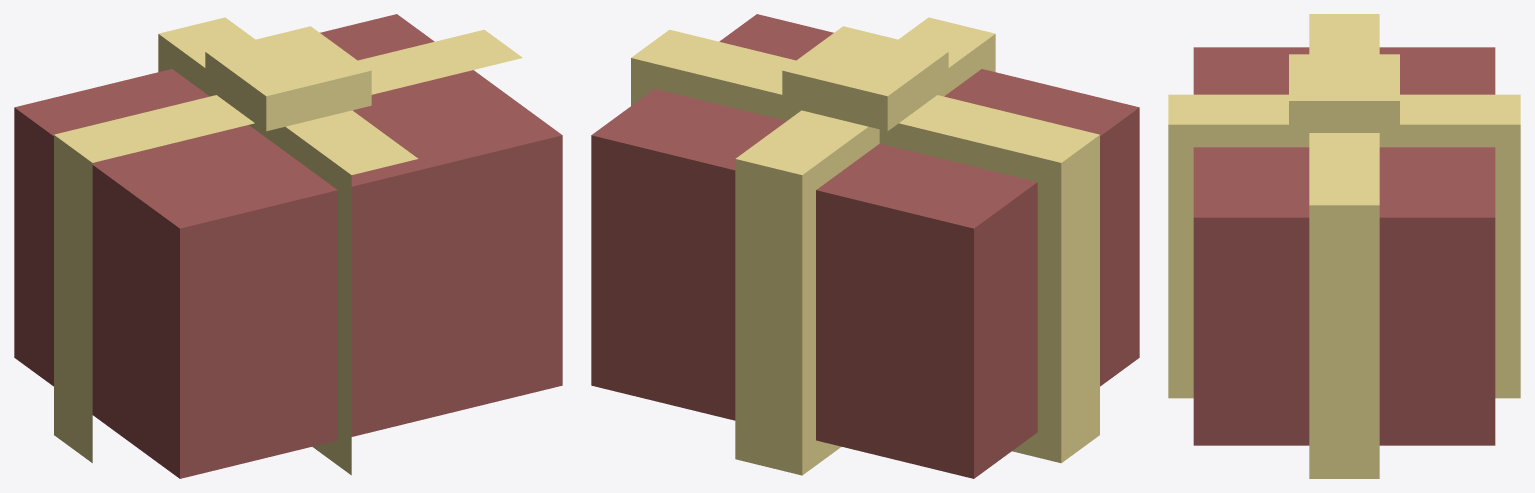
The model's file is parcel_red.glb.
The picture shows the model from 3 angles, left to right: view 1: azimuth 30°, elevation 25°; view 2: azimuth 150°, elevation 25°; view 3: azimuth 270°, elevation 25°; orthographic projection. The views are drawn at different scales.
Parts seen in each view (by area): view 1: Box, TwZ, TwX, Knot; view 2: Box, TwZ, TwX, Knot; view 3: Box, TwZ, TwX, Knot.
Boxes of the visible parts, <box> form: Box: <box>14,14,562,478</box>; TwZ: <box>54,29,522,462</box>; TwX: <box>158,17,418,475</box>; Knot: <box>205,26,371,131</box>; Box: <box>591,14,1139,478</box>; TwZ: <box>631,29,1099,463</box>; TwX: <box>735,17,995,475</box>; Knot: <box>782,26,948,131</box>; Box: <box>1193,47,1495,445</box>; TwZ: <box>1309,14,1379,478</box>; TwX: <box>1168,94,1520,398</box>; Knot: <box>1289,54,1399,132</box>.
Bounding box in the file's own units: 0.9 × 0.67 × 0.7.
